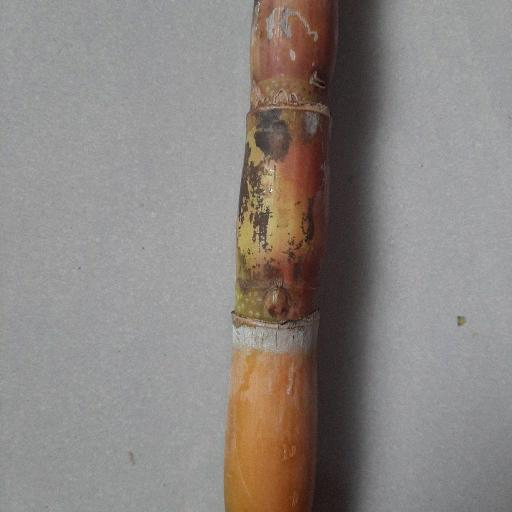Bud: (261, 285, 293, 321)
